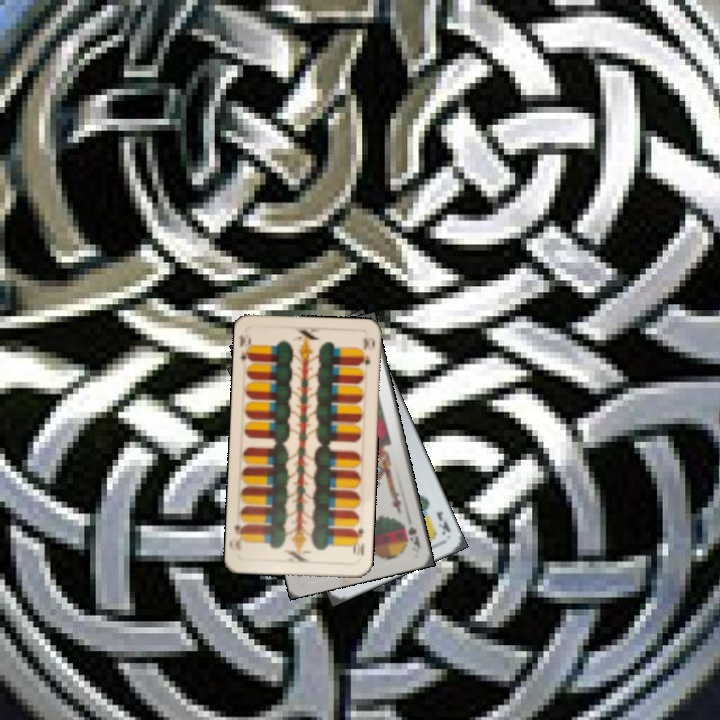E10: (236, 331, 256, 369), (349, 523, 367, 558)
EK: (432, 507, 453, 538)
SK: (400, 519, 423, 552)
